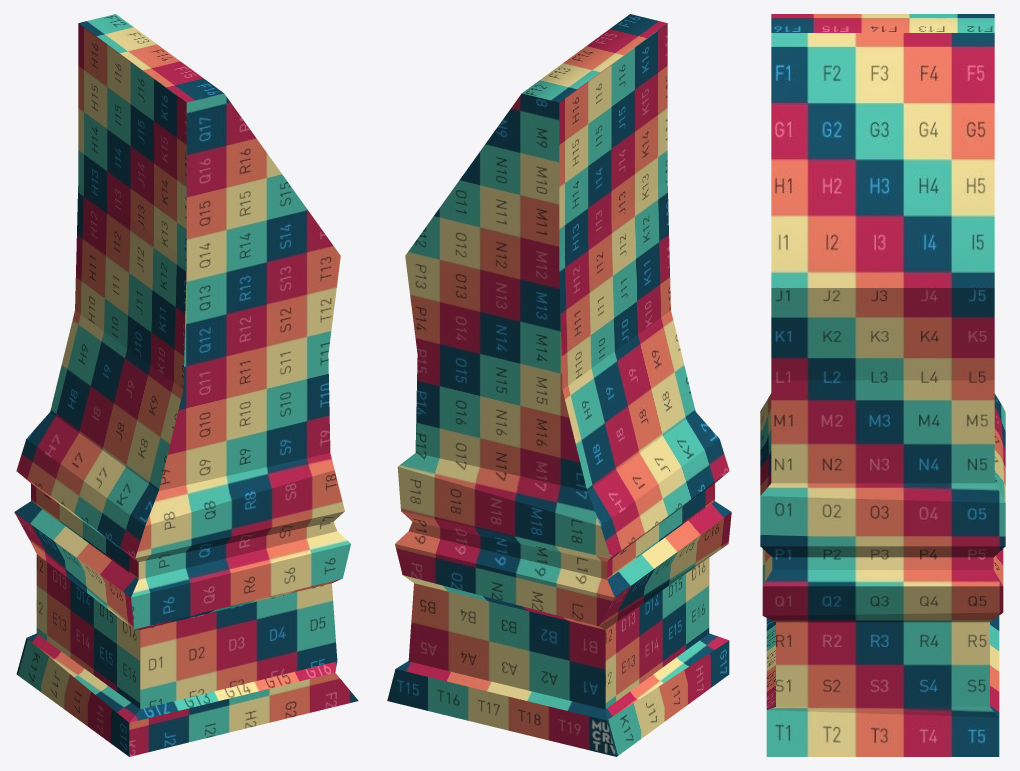
Rendered from Piliier_07_low.FBX.
3 views of the same model, side by side, from view 1: azimuth 30°, elevation 25°; view 2: azimuth 150°, elevation 25°; view 3: azimuth 270°, elevation 25° (orthographic). The views are drawn at different scales.
Parts seen in each view (by area): view 1: Pilier_007; view 2: Pilier_007; view 3: Pilier_007.
Part boxes in pixels (x1=…): Pilier_007: x1=14, y1=14, x2=358, y2=756; Pilier_007: x1=387, y1=14, x2=731, y2=756; Pilier_007: x1=760, y1=14, x2=1005, y2=756.
Size of the model in its own units: 1.54 by 4.1 by 1.39.
